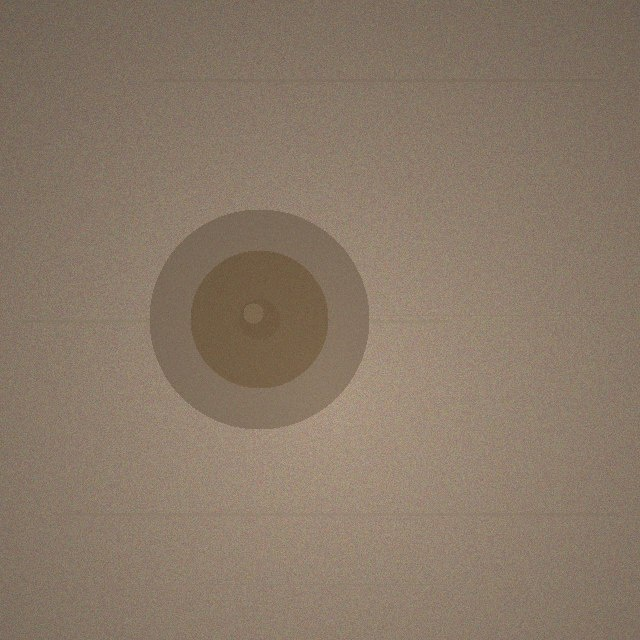good: (149, 209, 369, 429)
